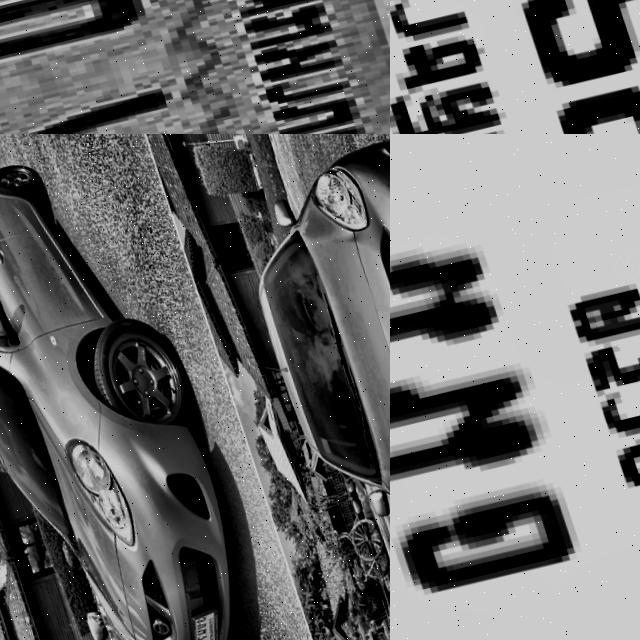license-plate: (390, 134, 640, 640), (0, 0, 390, 134), (390, 0, 640, 134), (163, 588, 228, 640)
